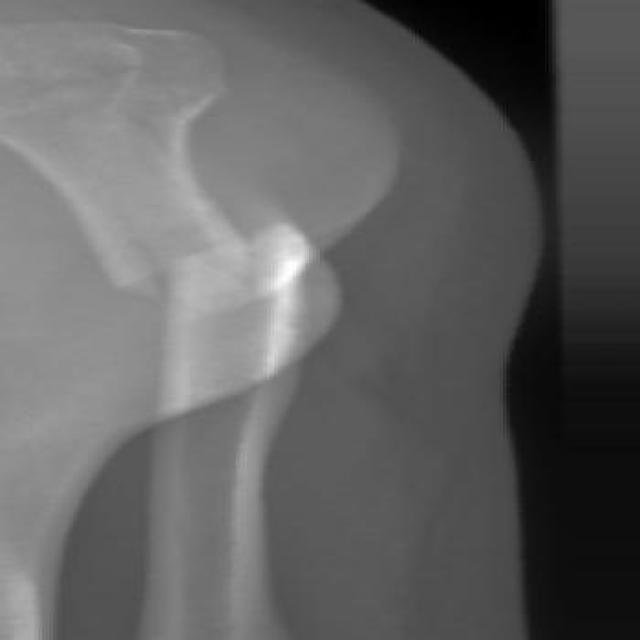Fracture: (101, 218, 308, 307)
